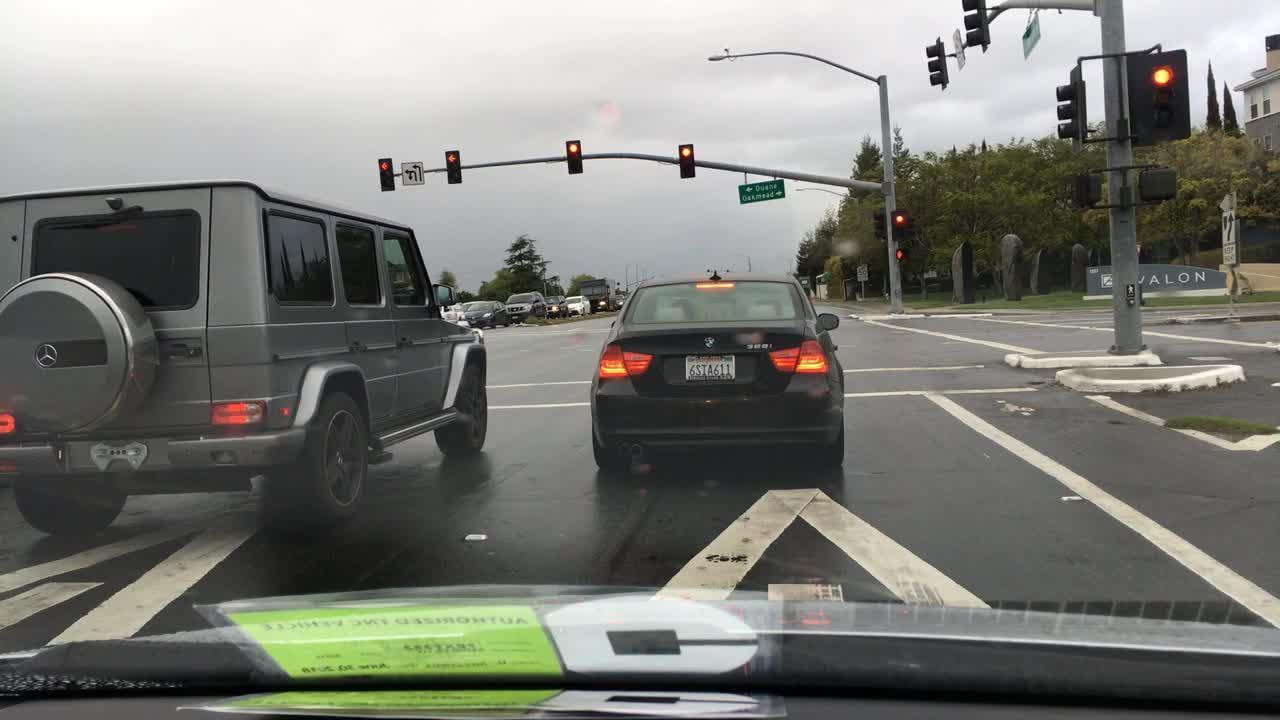Mitsubishi: (30, 338, 66, 372)
bmw: (692, 327, 725, 354)
